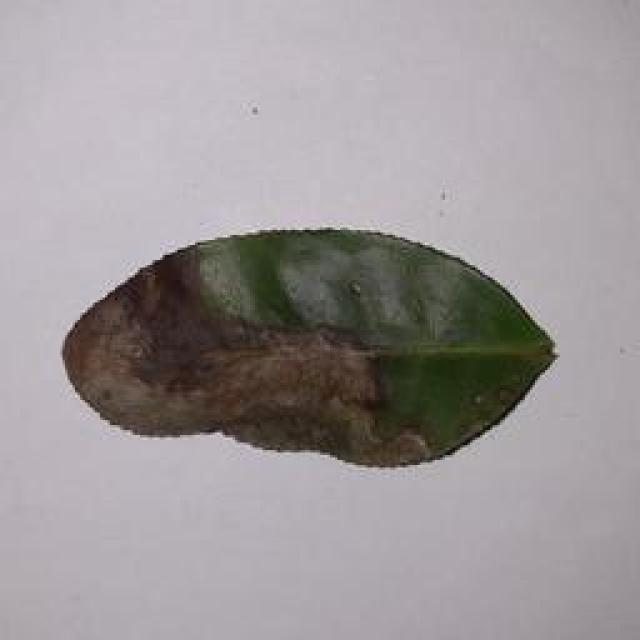Brown Blight: (57, 208, 574, 488)
